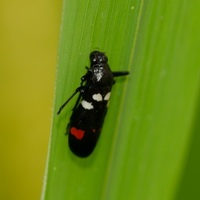insect: (57, 51, 128, 156)
